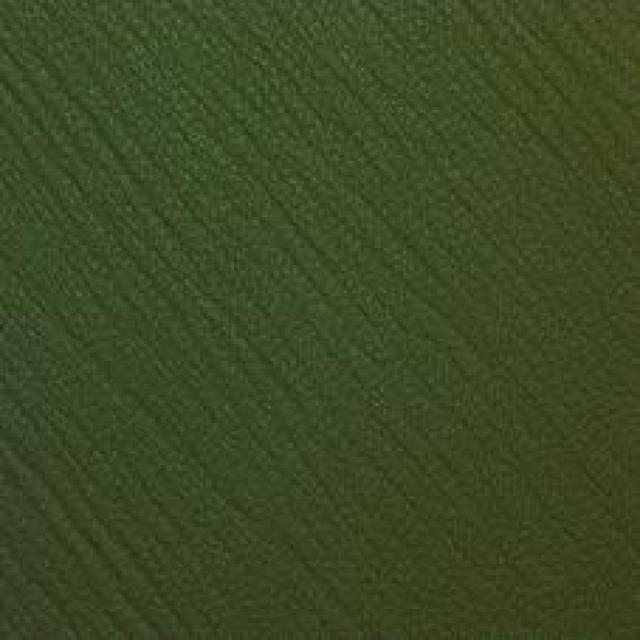Growth Marks: (329, 23, 620, 167), (32, 59, 194, 212)
